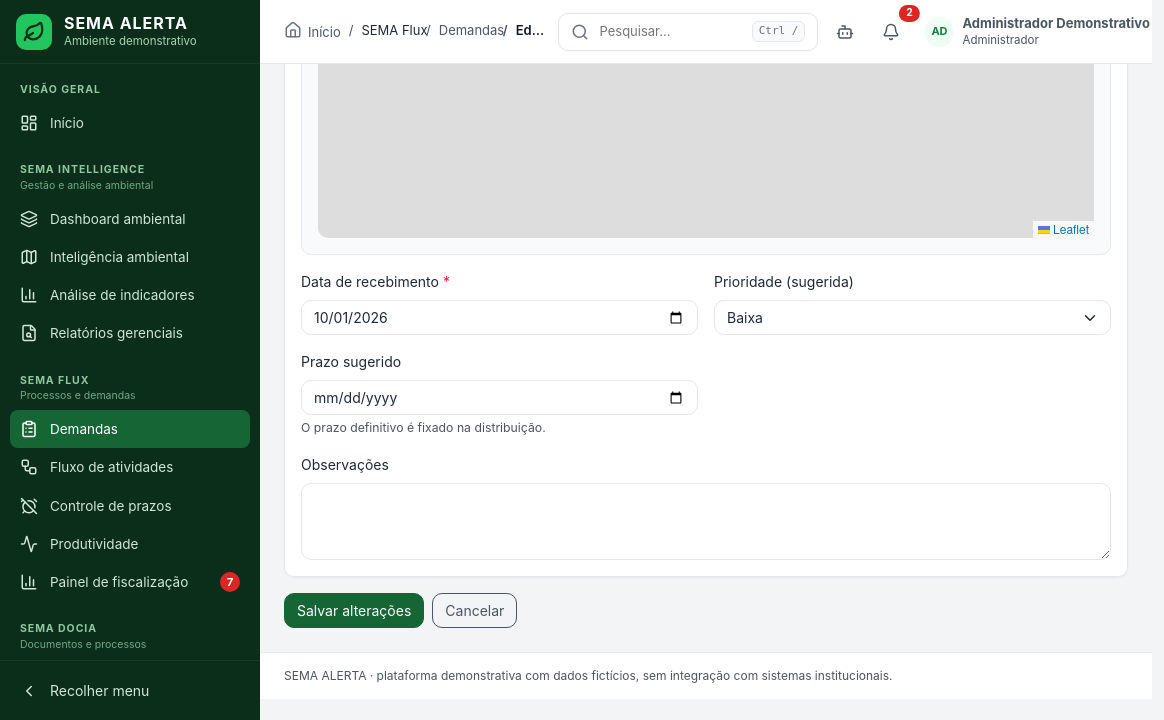
Test: Edição de demanda › 409 da API (status mudou) vira toast de erro
(page scrolled)
Step 1. Click the button "Salvar alterações" → coordinates (354, 610), box [284, 593, 424, 628]
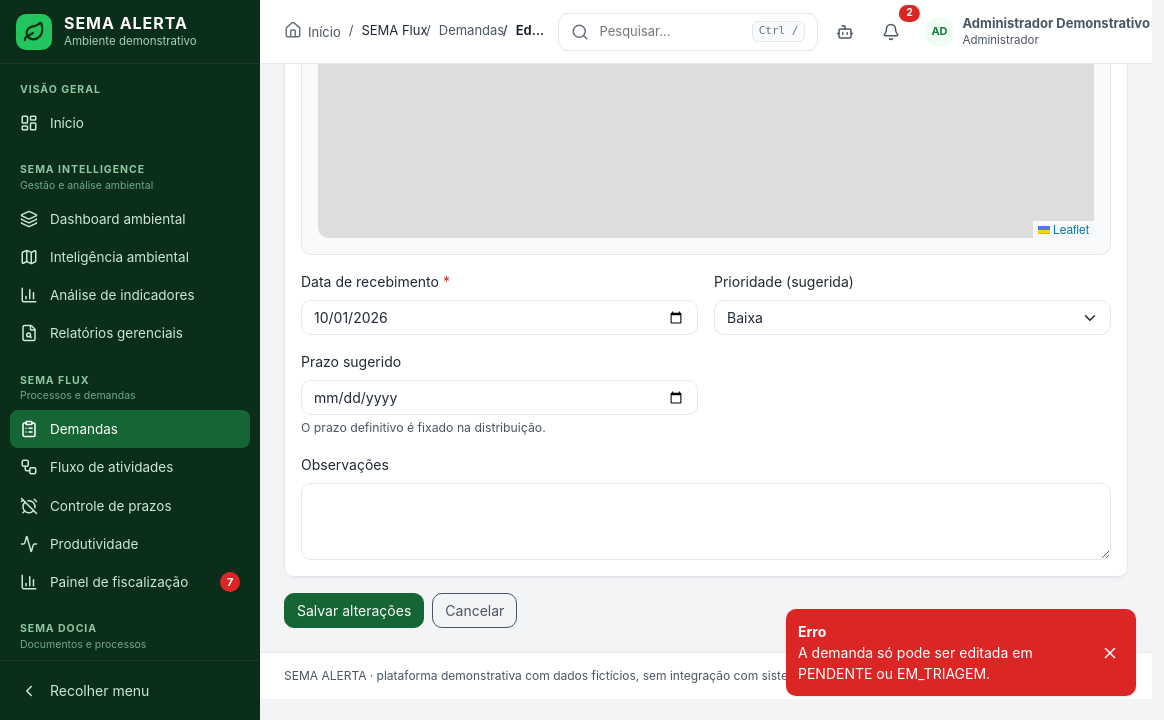
Expected: the text "só pode ser editada em PENDENTE ou EM_TRIAGEM" is shown, [798, 644, 1033, 682]
